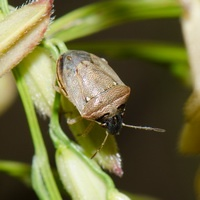insect: (57, 50, 129, 133)
